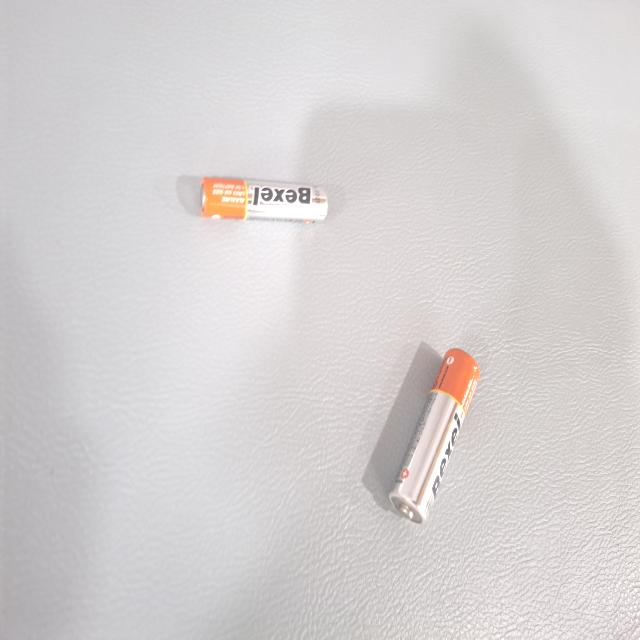AA: (261, 212, 393, 334)
AAA: (132, 418, 166, 588)
